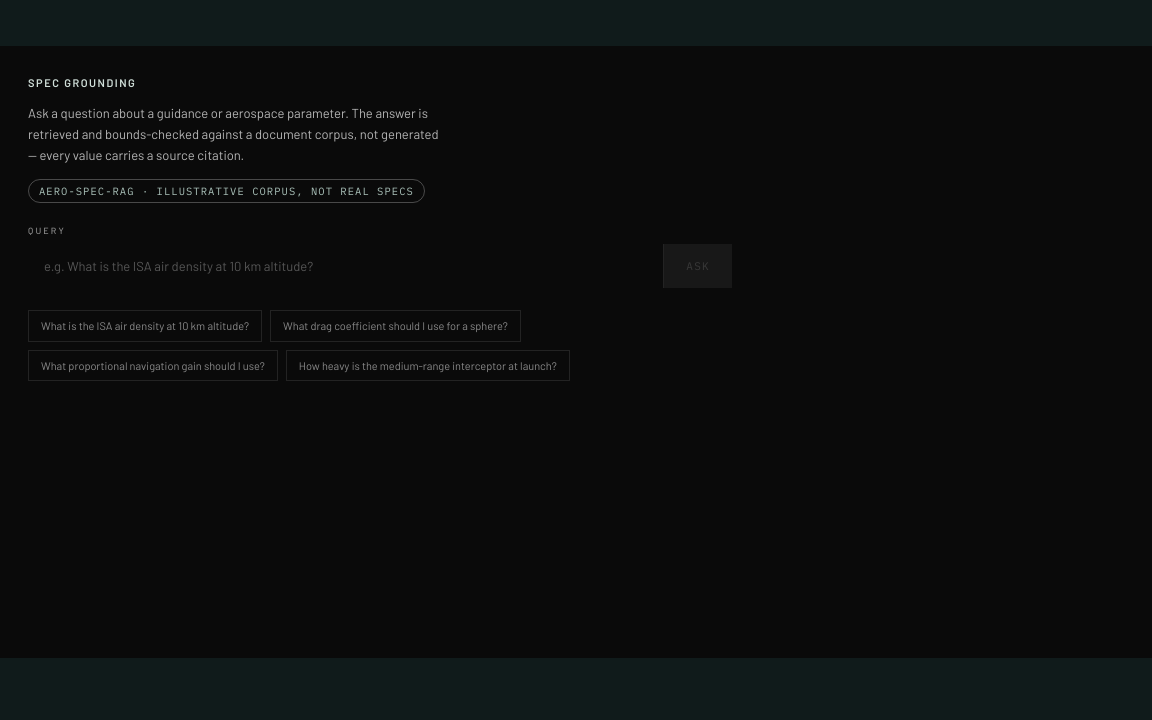
Test: SpecGroundingPanel › submits the typed query and renders a verified result
Type "What drag coefficient should I use for a sphere?" into the field labelled "QUERY".
click(346, 266); type("What drag coefficient should I use for a sphere?")  # box [28,244,663,288]
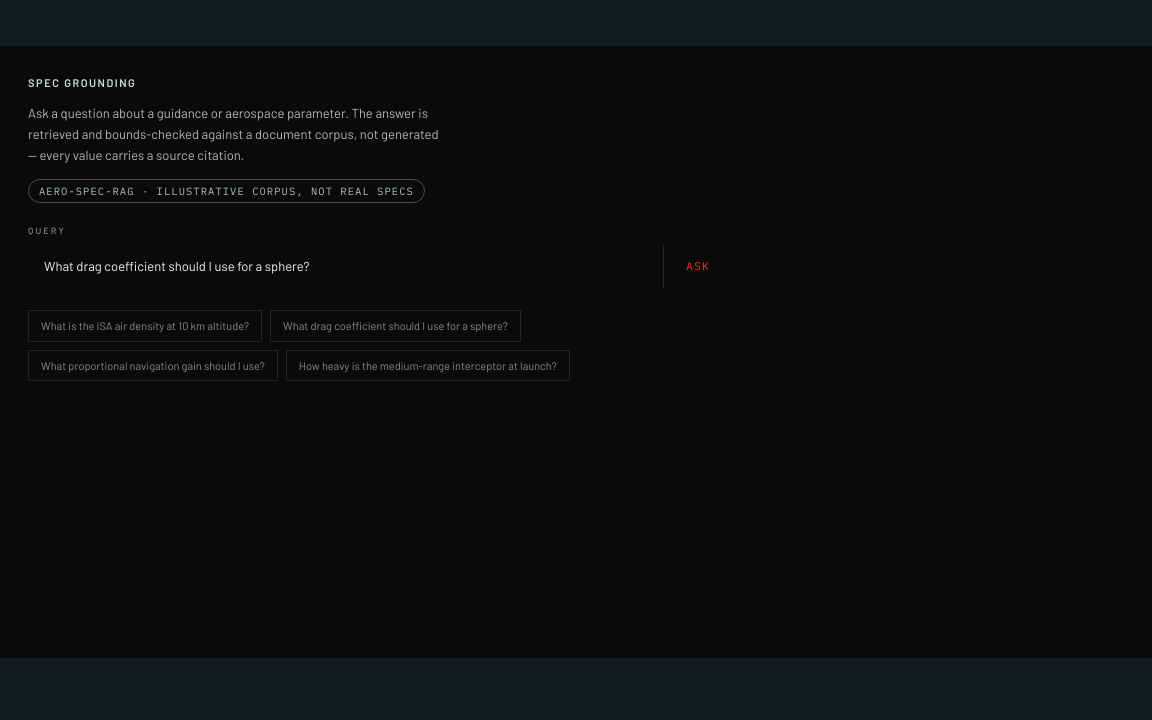
Click the button "ASK".
click(698, 266)  # box [664,244,732,288]
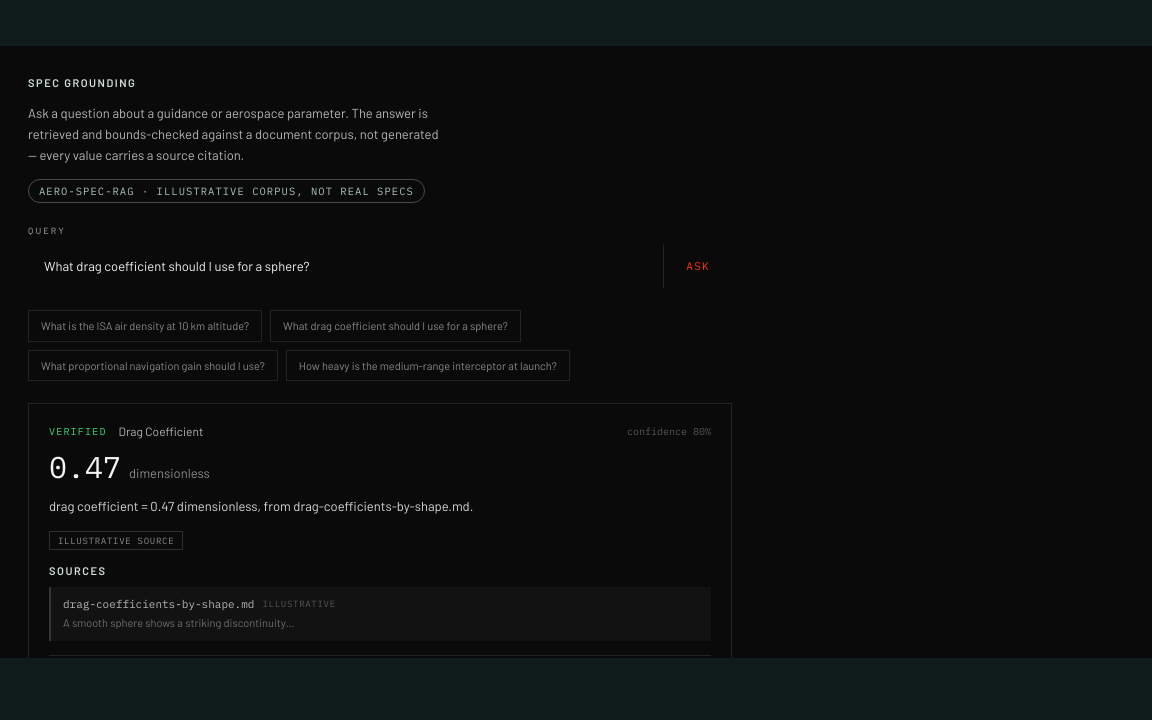
Expected: the text "VERIFIED" is shown, [49,425,107,438]
Expected: the text "0.47" is shown, [49,452,121,482]
Expected: the text "drag-coefficients-by-shape.md" is shown, [49,498,473,514]
